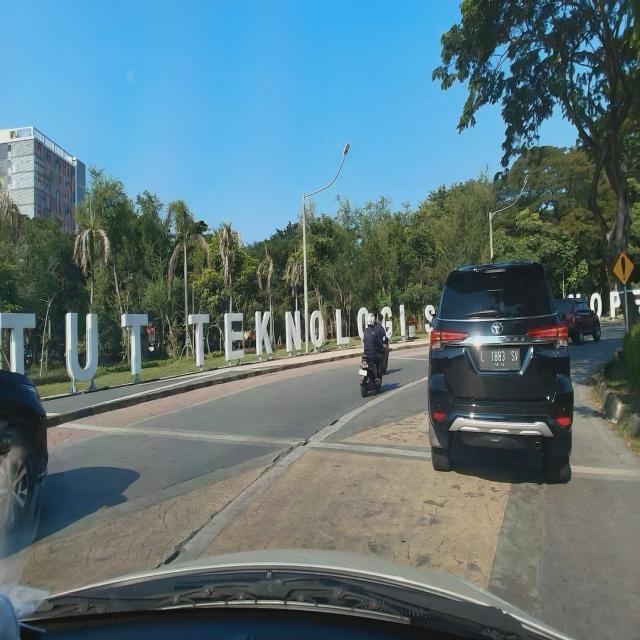car: (426, 259, 576, 485)
license-plate: (479, 346, 521, 371)
